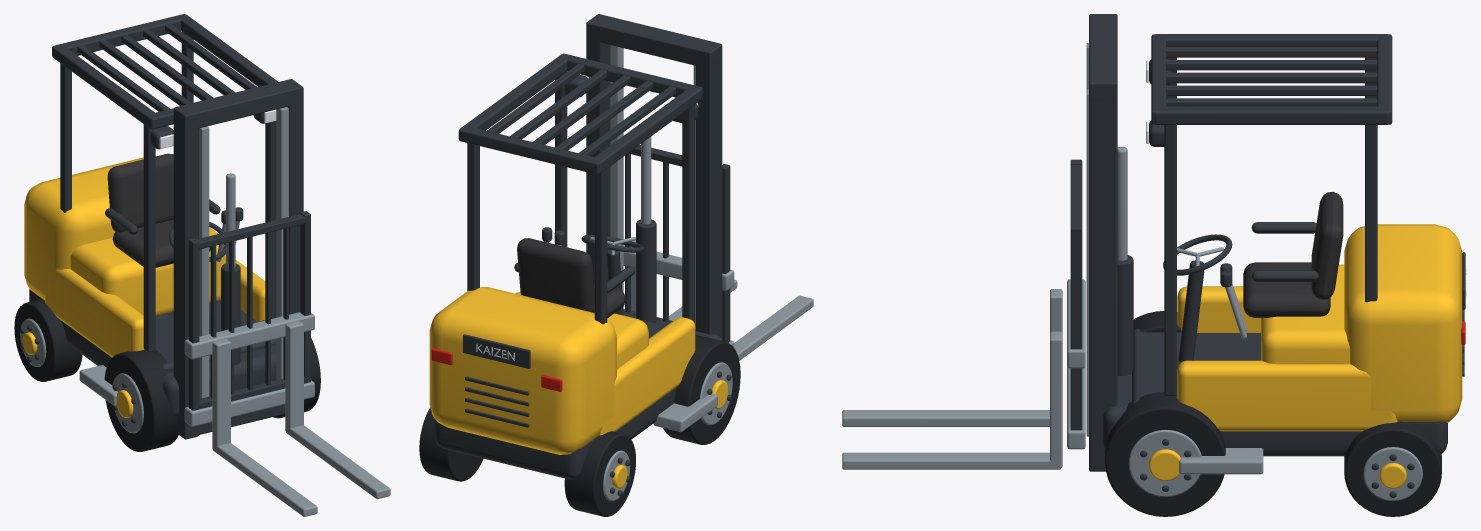
File: FORKLIFT.glb
The picture shows the model from 3 angles, left to right: view 1: azimuth 30°, elevation 25°; view 2: azimuth 150°, elevation 25°; view 3: azimuth 270°, elevation 25°; orthographic projection. The views are drawn at different scales.
Visible parts, largest first — view 1: Rear counterweight, Outer mast rail, Side body panel, Engine cover, Solid tire, Mast crossmember.001, Seat back, Solid tire.001, Overhead guard post, Outer mast rail.001, Inner mast channel, Chassis (+36 smaller); view 2: Rear counterweight, Outer mast rail, Side body panel, Chassis, Seat back, Mast crossmember.001, Solid tire, Solid tire.001, Overhead guard post, Outer mast rail.001, Guard crossbar.001, Guard side rail (+26 smaller); view 3: Rear counterweight, Side body panel.001, Outer mast rail.001, Solid tire.002, Solid tire.003, Engine cover, Chassis, Guard side rail.001, Operator floor, Fork blade.001, Fork blade, Overhead guard post.002 (+29 smaller).
Boxes of the visible parts, x1,y1,x2,y2 form: Rear counterweight: [24, 157, 143, 300]; Outer mast rail: [173, 110, 198, 439]; Side body panel: [45, 267, 144, 357]; Engine cover: [70, 227, 225, 315]; Solid tire: [104, 349, 178, 451]; Mast crossmember.001: [173, 79, 303, 130]; Seat back: [107, 153, 173, 232]; Solid tire.001: [14, 299, 82, 381]; Overhead guard post: [143, 124, 155, 352]; Outer mast rail.001: [287, 88, 303, 314]; Inner mast channel: [199, 126, 209, 398]; Chassis: [29, 289, 276, 416]; Rear counterweight: [429, 287, 616, 454]; Outer mast rail: [696, 46, 722, 339]; Side body panel: [599, 317, 695, 435]; Chassis: [435, 311, 722, 479]; Seat back: [517, 238, 594, 312]; Mast crossmember.001: [586, 14, 722, 67]; Solid tire: [663, 335, 740, 444]; Solid tire.001: [564, 431, 635, 516]; Overhead guard post: [682, 104, 694, 323]; Outer mast rail.001: [586, 24, 610, 282]; Guard crossbar.001: [458, 126, 601, 174]; Guard side rail: [594, 86, 702, 173]; Rear counterweight: [1344, 224, 1462, 422]; Side body panel.001: [1177, 360, 1397, 431]; Outer mast rail.001: [1089, 83, 1117, 471]; Solid tire.002: [1105, 392, 1225, 516]; Solid tire.003: [1344, 421, 1441, 516]; Engine cover: [1261, 264, 1350, 364]; Chassis: [1102, 374, 1447, 456]; Guard side rail.001: [1154, 106, 1388, 124]; Operator floor: [1132, 329, 1260, 403]; Fork blade.001: [842, 452, 1060, 469]; Fork blade: [842, 410, 1049, 426]; Overhead guard post.002: [1164, 125, 1176, 396].
Bounding box in the file's own units: 1.53 × 2.76 × 3.71.
